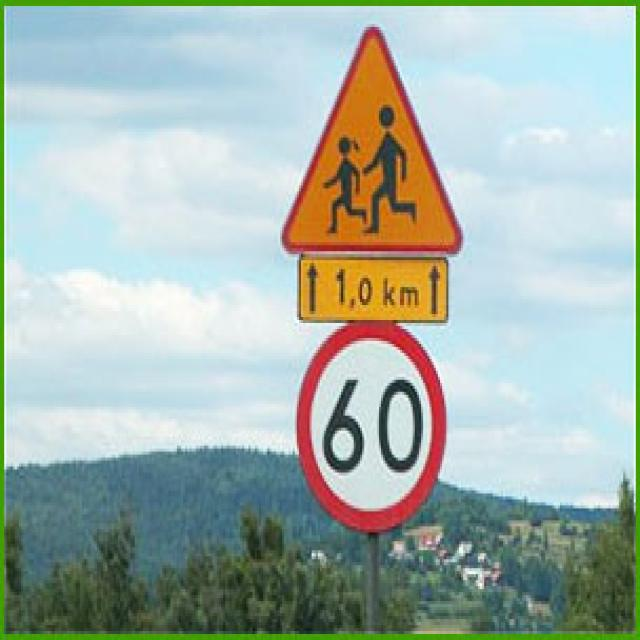Speed Limit -60-: (322, 373, 422, 480)
